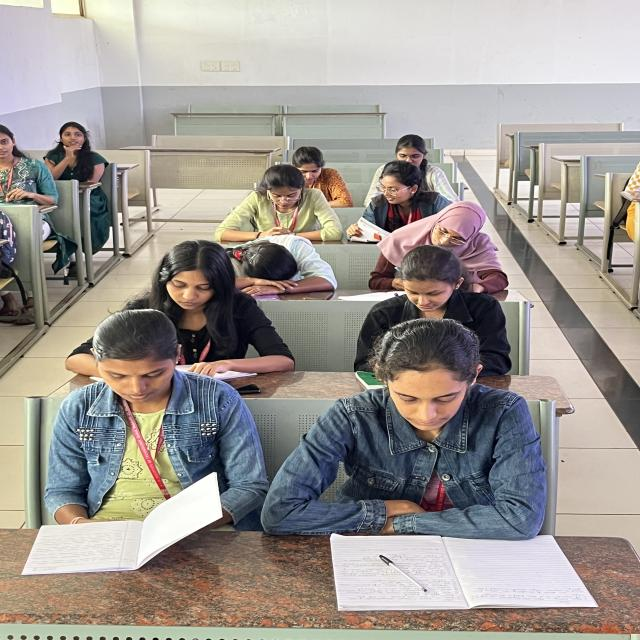Reading: (284, 318, 578, 562), (154, 250, 287, 389), (207, 161, 337, 243)
Sleeping: (196, 221, 341, 311)
Using Phone: (44, 309, 257, 516)
Writing: (354, 194, 520, 303)
